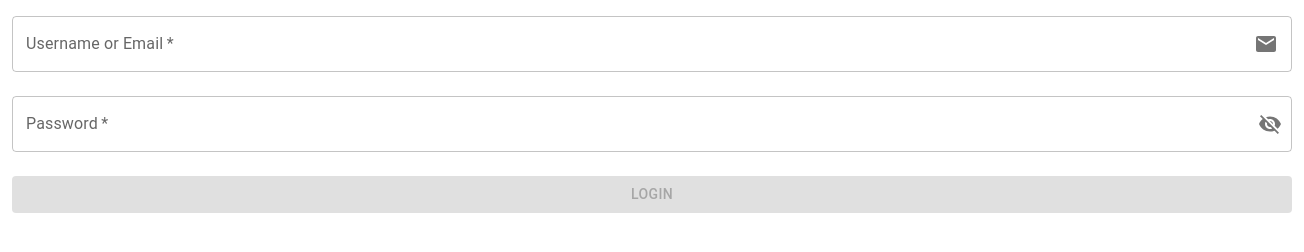
Test: Login integration – user flow › user can fill in credentials and see validation errors on blur
Note: Username field: type something, then clear to trigger validation
In the field labelled "Username or Email *": (629, 44) x1=12 y1=16 x2=1246 y2=72, type "test"
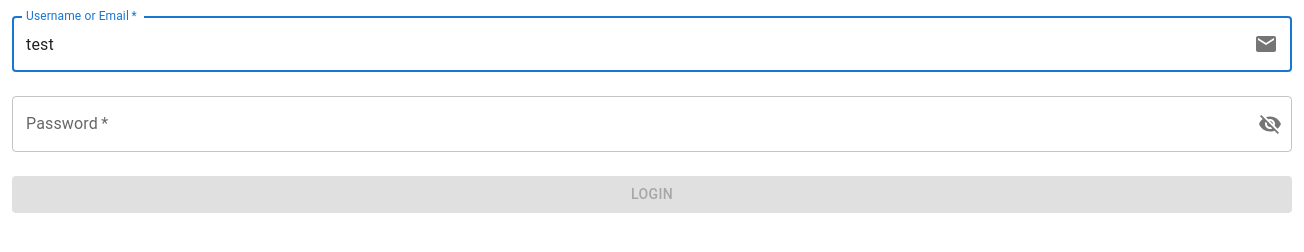
Clear the field labelled "Username or Email *": (629, 44) x1=12 y1=16 x2=1246 y2=72
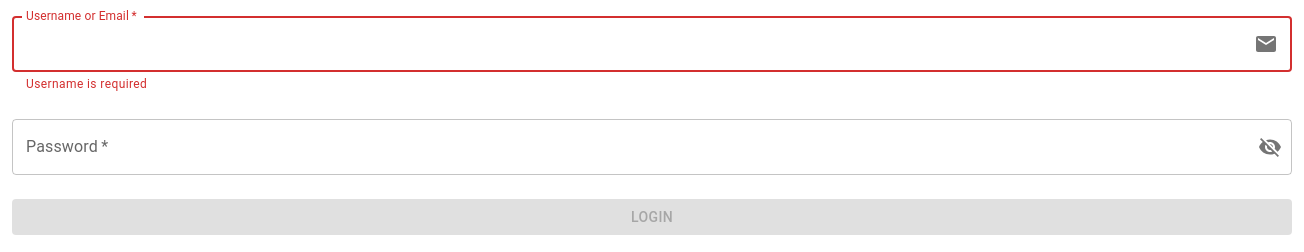
Check: the text "Username is required" is shown, box x1=26 y1=77 x2=147 y2=91
